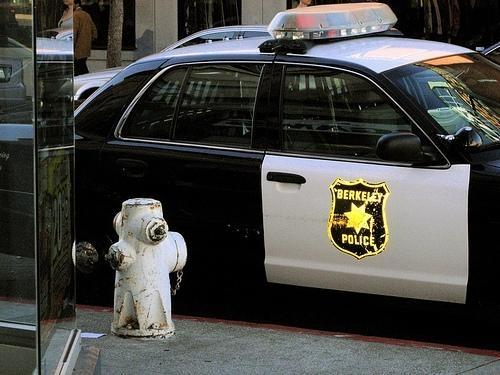car: (74, 2, 500, 352), (74, 24, 269, 100), (0, 36, 35, 102)
